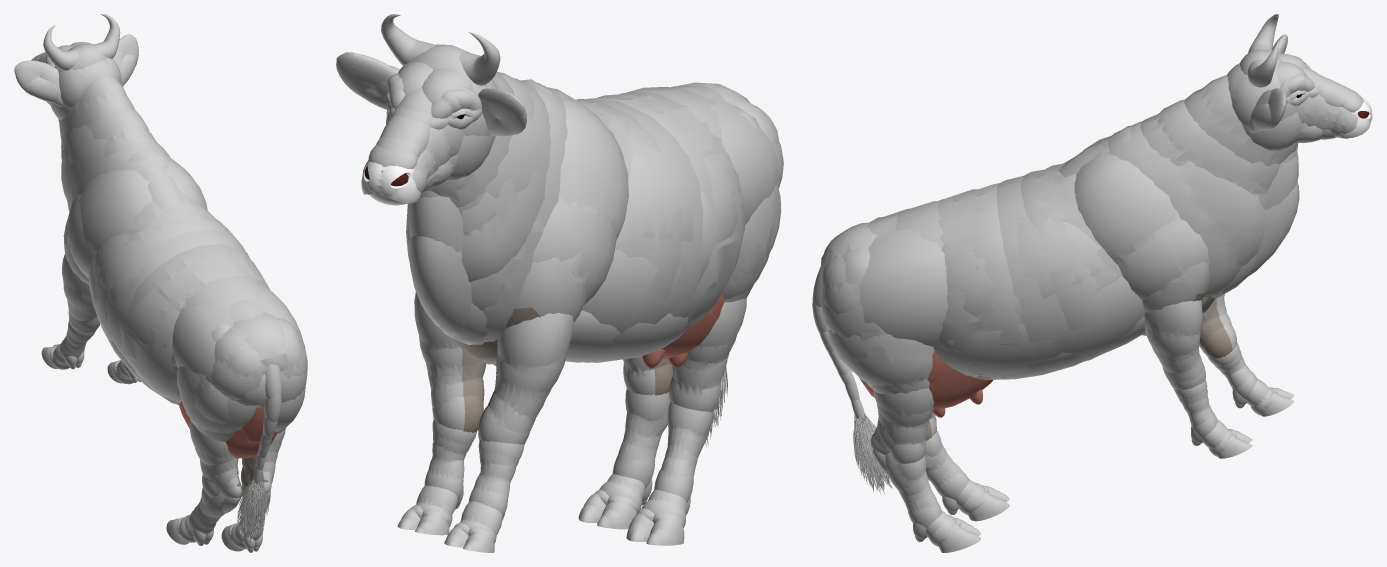
3 views of the same model, side by side, from view 1: azimuth 30°, elevation 25°; view 2: azimuth 150°, elevation 25°; view 3: azimuth 270°, elevation 25° (orthographic). The views are drawn at different scales.
Visible parts, largest first — view 1: Flank1, Union5, Shoulder11, Union2, Belly11, Union4, Neck11, Lowerleg11, Neck21, Part8, Part2, Head1 (+29 smaller); view 2: Shoulder11, Lowerarm11, Neck11, Flank1, Head1, Union4, Part8, Part12, Union2, Part3, Lowerleg11, Belly11 (+49 smaller); view 3: Shoulder21, Head1, Union2, Flank1, Belly11, Union4, Neck11, Thigh23, Lowerarm21, Part8, Lowerleg21, Neck21 (+28 smaller).
Boxes of the visible parts, <box> form: Flank1: <box>122,244,269,400</box>; Union5: <box>211,311,307,400</box>; Shoulder11: <box>66,170,152,278</box>; Union2: <box>172,283,305,408</box>; Belly11: <box>95,194,230,323</box>; Union4: <box>92,229,249,347</box>; Neck11: <box>61,108,156,200</box>; Lowerleg11: <box>189,419,241,498</box>; Neck21: <box>58,74,134,139</box>; Part8: <box>97,222,245,305</box>; Part2: <box>118,268,269,347</box>; Head1: <box>67,141,170,211</box>; Shoulder11: <box>532,96,628,304</box>; Lowerarm11: <box>479,312,574,444</box>; Neck11: <box>461,71,548,282</box>; Flank1: <box>586,92,745,326</box>; Head1: <box>406,80,567,341</box>; Union4: <box>576,99,703,314</box>; Part8: <box>626,135,701,241</box>; Part12: <box>409,235,472,335</box>; Union2: <box>626,86,779,224</box>; Part3: <box>582,249,681,362</box>; Lowerleg11: <box>670,297,746,411</box>; Belly11: <box>577,100,682,299</box>; Shoulder21: <box>1074,150,1209,300</box>; Head1: <box>1107,121,1266,298</box>; Union2: <box>821,208,948,346</box>; Flank1: <box>938,183,1023,366</box>; Belly11: <box>1020,158,1122,330</box>; Union4: <box>996,176,1117,351</box>; Neck11: <box>1140,99,1268,209</box>; Thigh23: <box>827,329,934,394</box>; Lowerarm21: <box>1144,300,1205,390</box>; Part8: <box>1017,216,1101,298</box>; Lowerleg21: <box>870,388,934,463</box>; Neck21: <box>1184,75,1298,166</box>.
Bounding box in the file's own units: 3.23 × 9.66 × 9.71.
